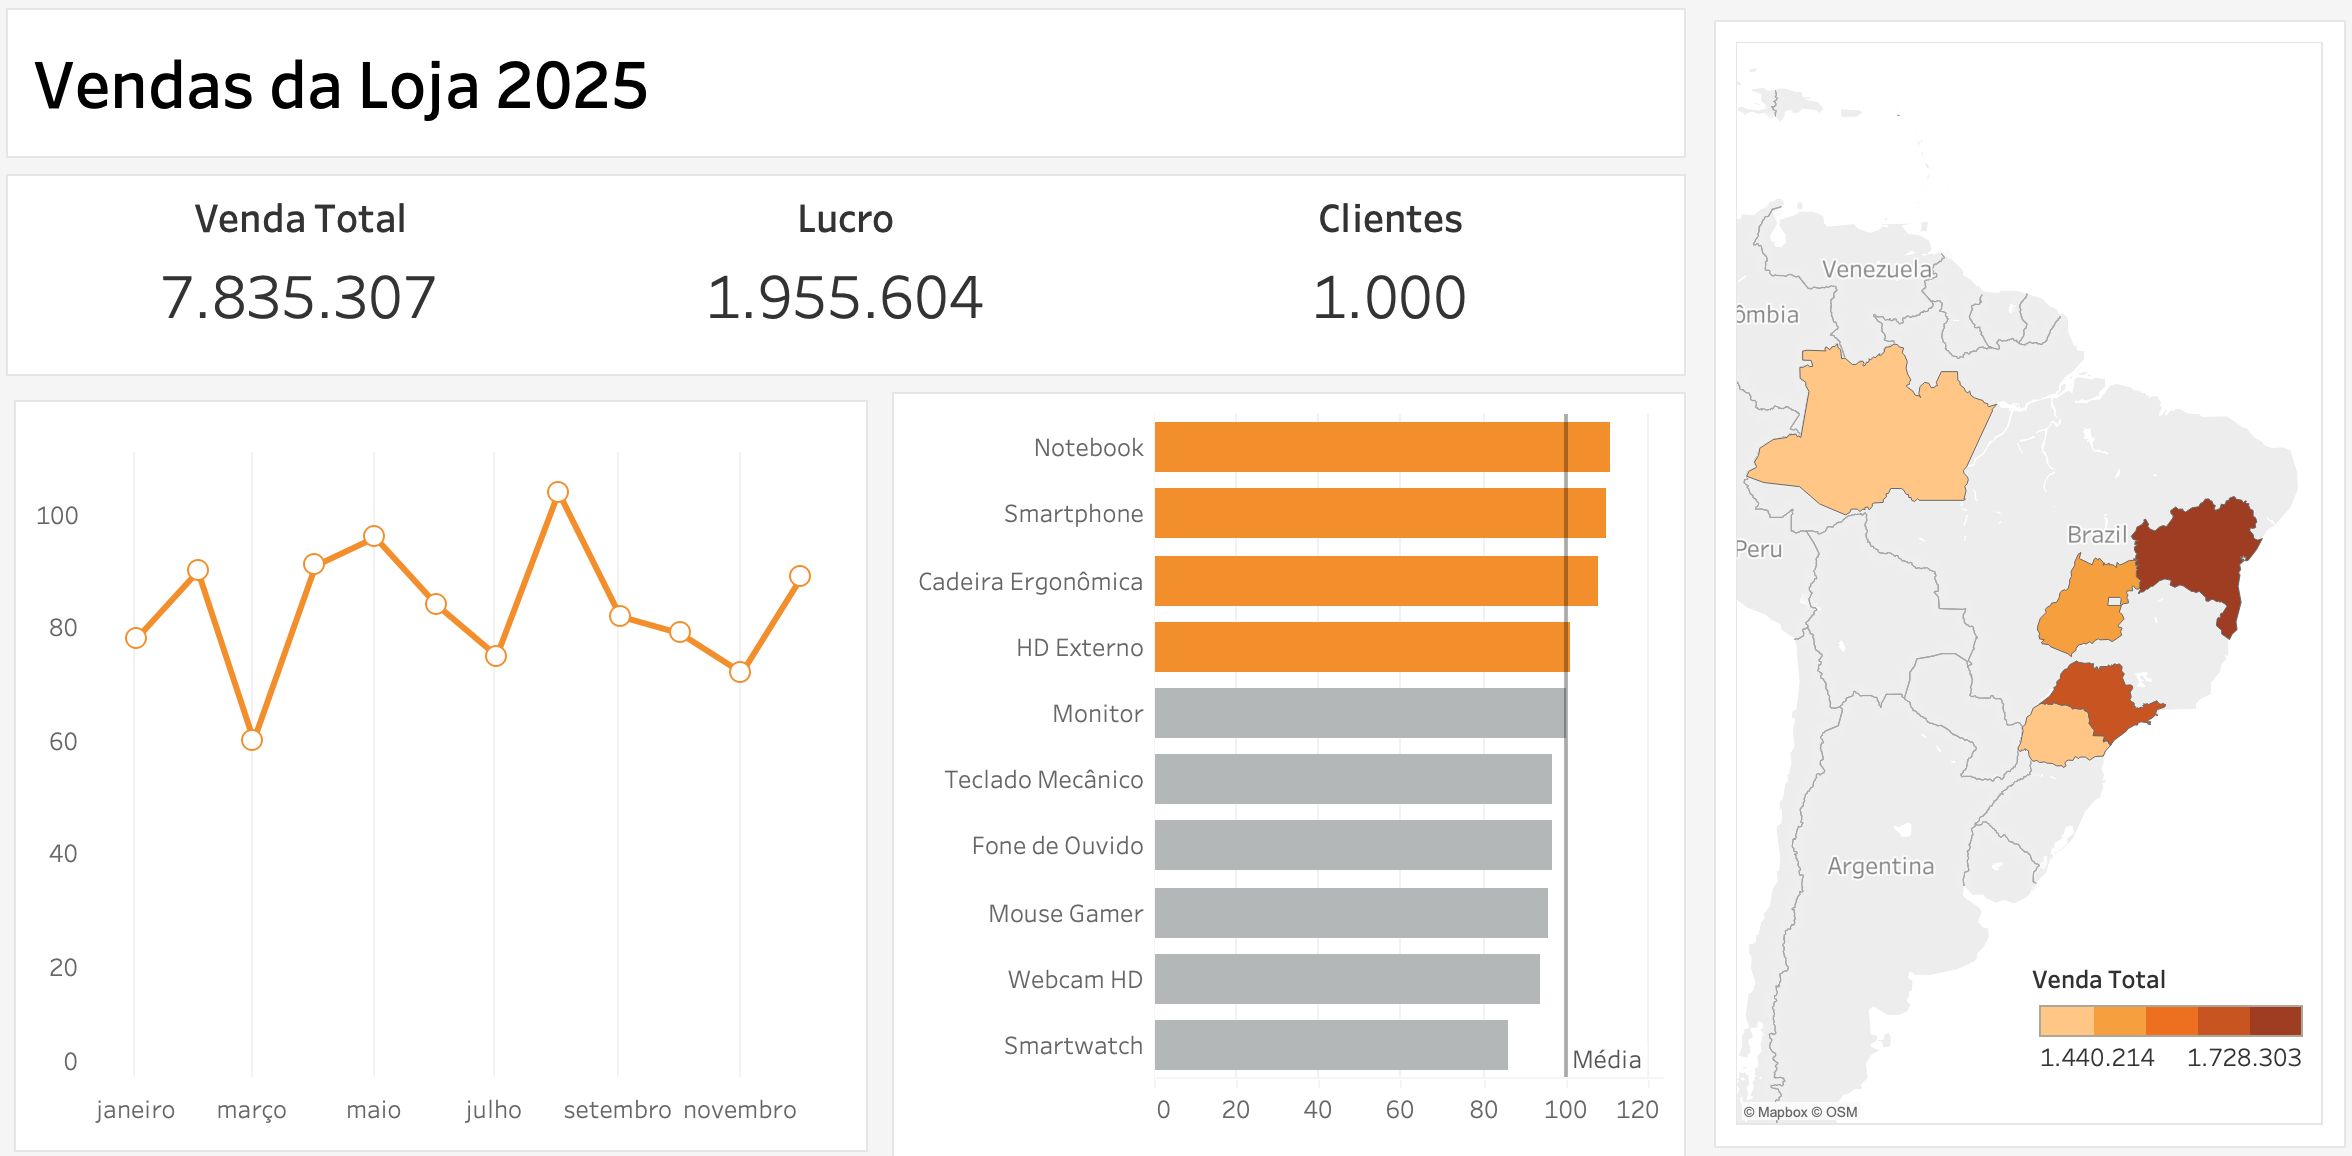

The page's visual inventory and layout, read from the dashboard file:
{"tool":"tableau","page":{"name":"Painel 1","canvas":[1200,600],"ordinal":0},"visuals":[{"type":"text","box":[8,8,848,83]},{"type":"worksheet","title":"Planilha 5","mark":"Automatic","box":[856,8,336,584]},{"type":"worksheet","title":"Planilha 6","mark":"Automatic","box":[8,91,848,109]},{"type":"worksheet","title":"Planilha 4","mark":"Automatic","rows":["Produto"],"cols":["Calculation_2833045644135493635"],"box":[451,200,405,392]},{"type":"worksheet","title":"Planilha 2","mark":"Automatic","rows":["Calculation_2833045644135493635","Calculation_2833045644135493635"],"cols":["Data Venda"],"box":[12,204,435,384]},{"type":"legend","title":"Planilha 5","param":"[federated.1rrhr6q0g6lf1h1gk9nr812snyst].[sum:Venda Total:qk]","box":[1025,489,140,76]}]}

Visuals, with their boxes in screenshot pixels (x1, y1, x2, y2), scaled from the page's 1200x600 canvas onto the 2352x1156 screenshot:
text: rect(16, 15, 1678, 175)
"Planilha 5" worksheet: rect(1678, 15, 2336, 1141)
"Planilha 6" worksheet: rect(16, 175, 1678, 385)
"Planilha 4" worksheet: rect(884, 385, 1678, 1141)
"Planilha 2" worksheet: rect(24, 393, 876, 1133)
"Planilha 5" legend: rect(2009, 942, 2283, 1089)
